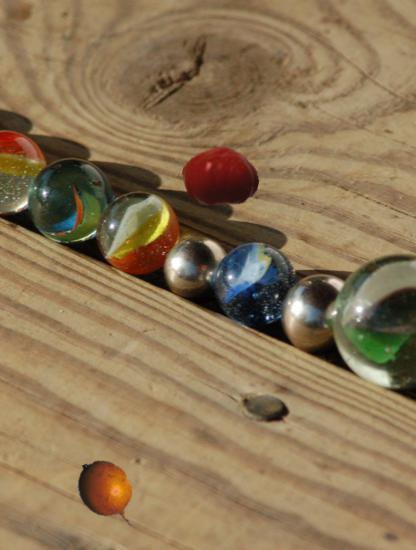Granadilla: (71, 457, 147, 533)
Tomato: (182, 139, 260, 217)
